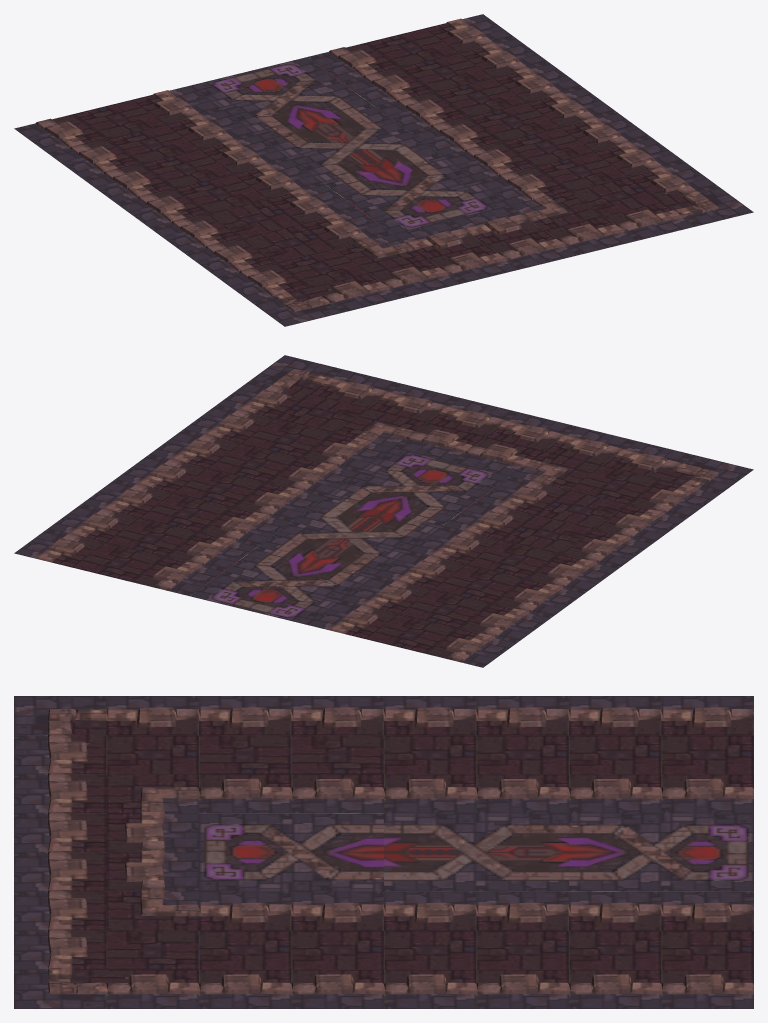
Rendered from Room_Floor_16_B.fbx.
3 renders of one model, top to bottom at view 1: azimuth 30°, elevation 25°; view 2: azimuth 150°, elevation 25°; view 3: azimuth 270°, elevation 25°, orthographic. The views are drawn at different scales.
Parts seen in each view (by area): view 1: Room_Floor_16_B; view 2: Room_Floor_16_B; view 3: Room_Floor_16_B.
Part boxes in pixels (box(x1,y1,x2,y2)): Room_Floor_16_B: box(14, 14, 753, 326); Room_Floor_16_B: box(14, 355, 753, 667); Room_Floor_16_B: box(14, 696, 753, 1008).
Bounding box in the file's own units: 1600 × 9.44 × 1600.
